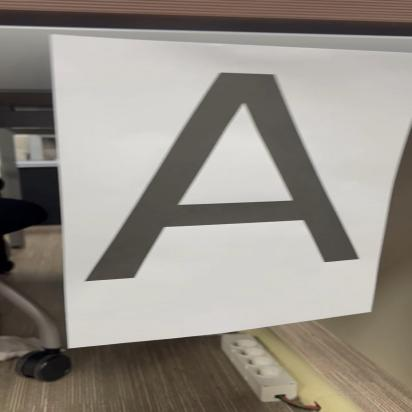seat: (73, 58, 377, 284)
